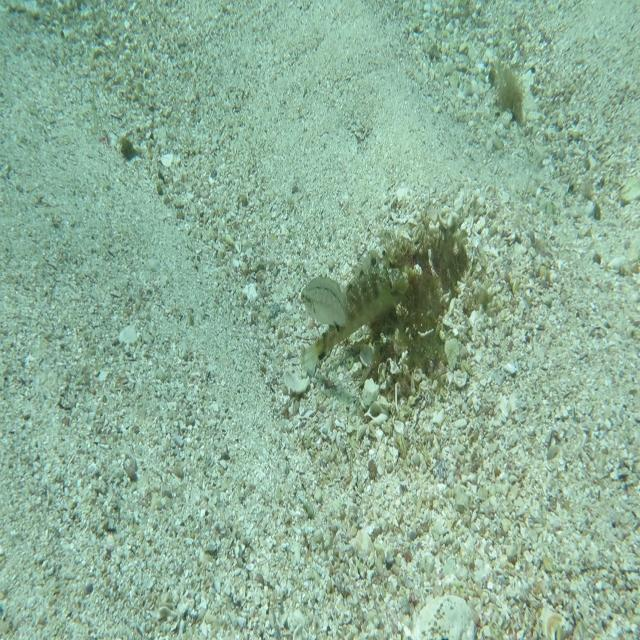BK_SW: (299, 247, 411, 380)
core_nest: (414, 240, 466, 276)
female: (300, 274, 355, 334)
nest: (359, 207, 479, 405)
